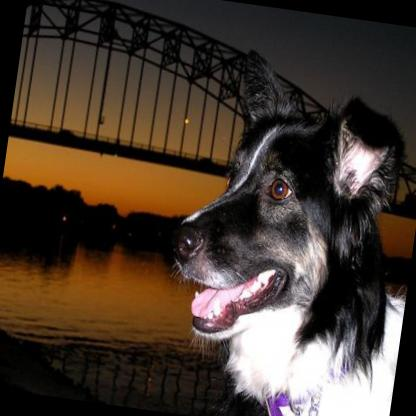Border_collie: (148, 36, 416, 416)
